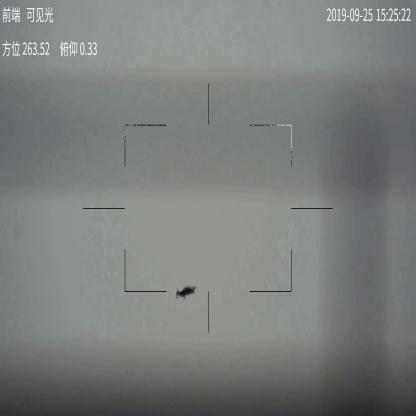uav: (174, 283, 198, 301)
